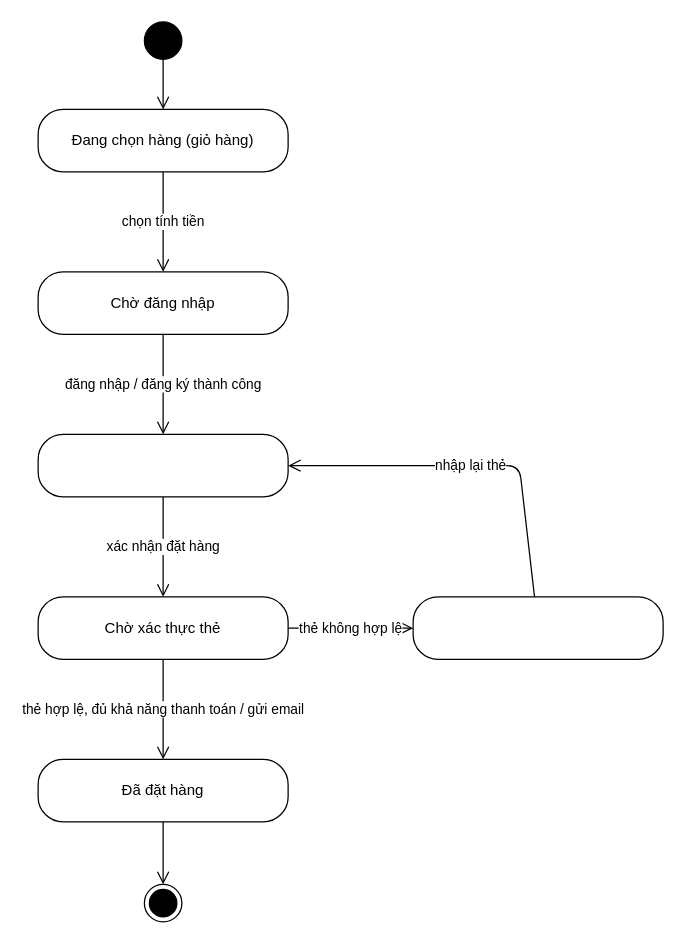
The diagram is 685 pixels wide and 944 high, and some of its shapes have lost their labels. Here are the shapes that lost their labels. From the top down, the centre of each, then its label:
At [162,465]: "Nhập thông tin giao hàng, thẻ".
At [537,627]: "Thanh toán bị từ chối".
